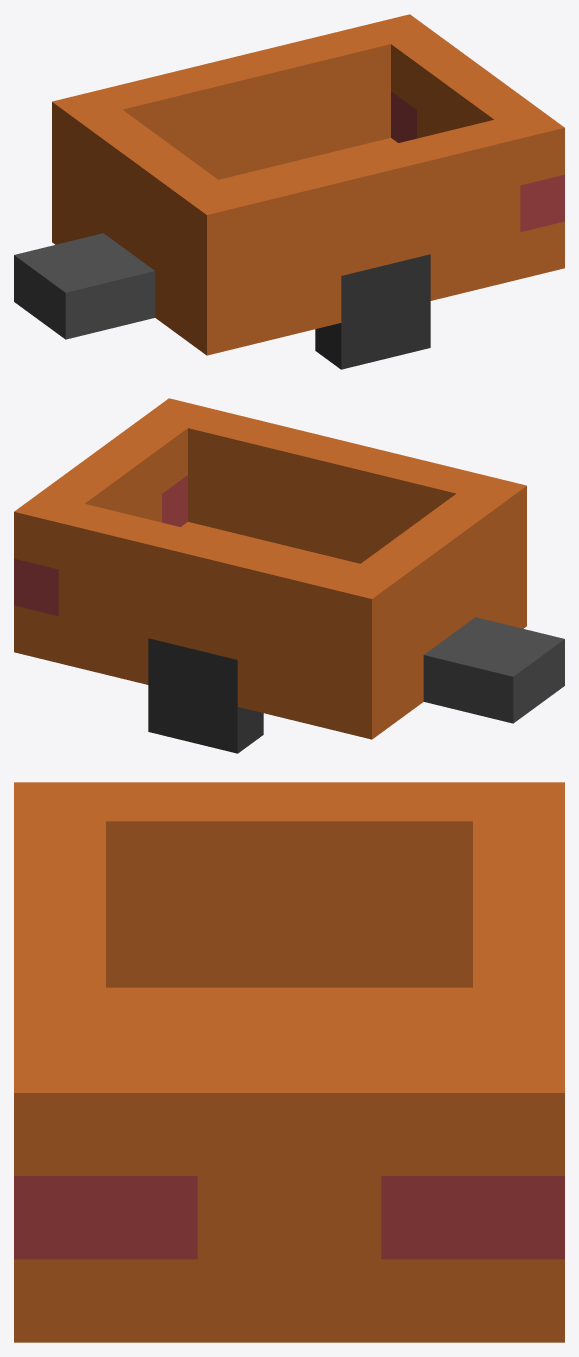
The model's file is car-trailer-v1-orange.gltf.
3 renders of one model, top to bottom at view 1: azimuth 30°, elevation 25°; view 2: azimuth 150°, elevation 25°; view 3: azimuth 270°, elevation 25°, orthographic. The views are drawn at different scales.
Visible parts, largest first — view 1: model, wheels; view 2: model, wheels; view 3: model.
Boxes of the visible parts, x1=… form: model: x1=14, y1=14, x2=564, y2=355; wheels: x1=315, y1=254, x2=430, y2=369; model: x1=14, y1=398, x2=564, y2=739; wheels: x1=148, y1=638, x2=263, y2=753; model: x1=14, y1=782, x2=564, y2=1342.
Bounding box in the file's own units: 1 × 0.4 × 0.6.
Materials: 2 (2 with a texture image).
